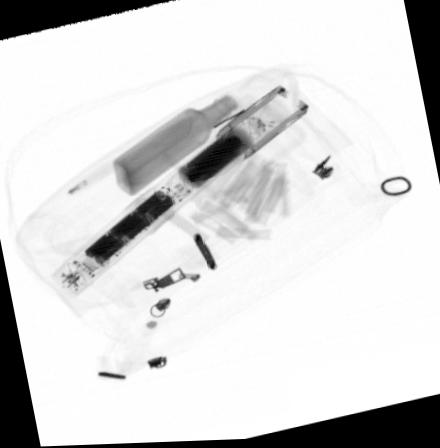Baton: (48, 82, 309, 296)
